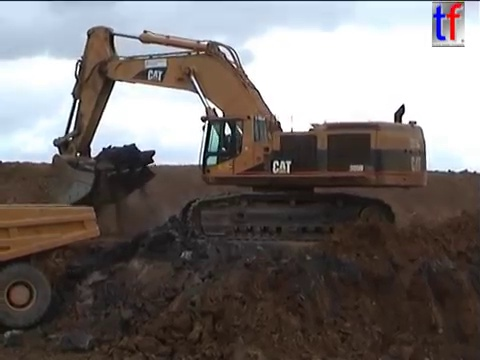excavator: (43, 23, 430, 246)
truck: (1, 198, 100, 329)
